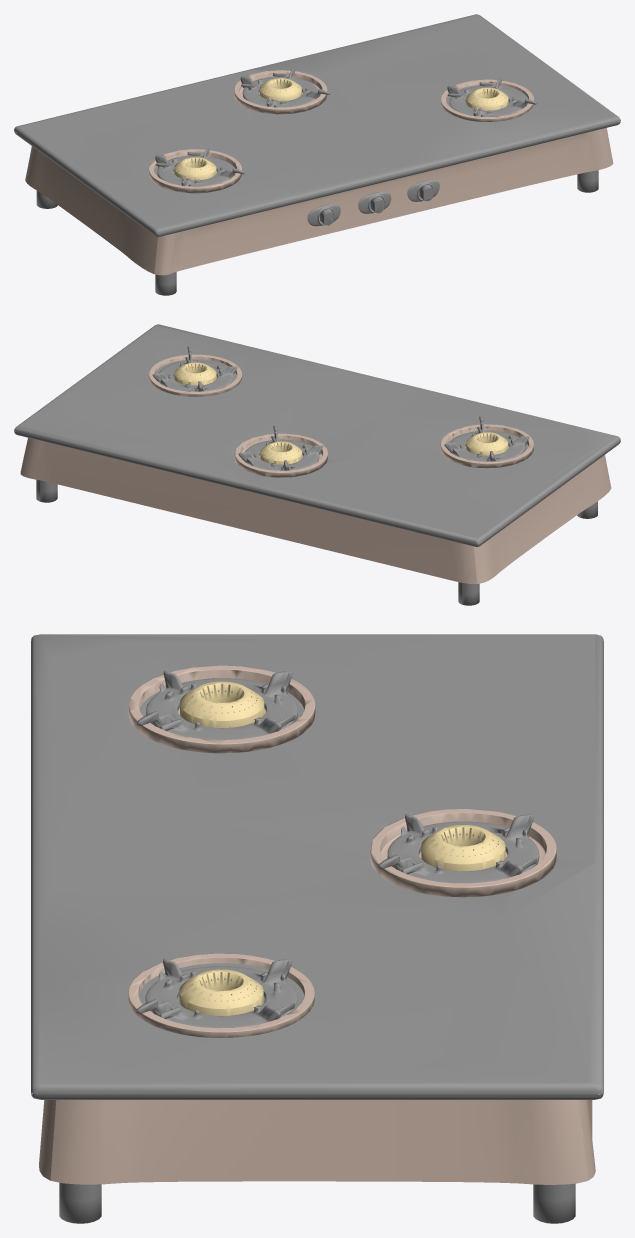
Rendered from cooktop.glb.
The picture shows the model from 3 angles, top to bottom: view 1: azimuth 30°, elevation 25°; view 2: azimuth 150°, elevation 25°; view 3: azimuth 270°, elevation 25°; orthographic projection. The views are drawn at different scales.
Parts seen in each view (by area): view 1: Box001, Box002, Cylinder10, Cylinder13, Cylinder04, Cylinder14, Cylinder11, Cylinder08, Cylinder09, Cylinder12, Cylinder15, Cylinder01 (+3 smaller); view 2: Box001, Box002, Cylinder14, Cylinder11, Cylinder13, Cylinder10, Cylinder04, Cylinder08, Cylinder15, Cylinder12, Cylinder09, Cylinder03 (+1 smaller); view 3: Box001, Box002, Cylinder14, Cylinder11, Cylinder13, Cylinder10, Cylinder04, Cylinder08, Cylinder15, Cylinder09, Cylinder12, Cylinder02 (+1 smaller).
Part boxes in pixels (<box>): Box001: <box>14,14,620,236</box>; Box002: <box>25,128,613,275</box>; Cylinder10: <box>155,148,244,186</box>; Cylinder13: <box>240,68,330,107</box>; Cylinder04: <box>447,78,536,116</box>; Cylinder14: <box>234,70,327,114</box>; Cylinder11: <box>148,149,241,193</box>; Cylinder08: <box>441,79,533,121</box>; Cylinder09: <box>174,157,216,180</box>; Cylinder12: <box>259,78,301,101</box>; Cylinder15: <box>466,87,508,110</box>; Cylinder01: <box>155,272,176,295</box>; Box001: <box>14,324,620,546</box>; Box002: <box>20,438,611,583</box>; Cylinder14: <box>234,433,327,477</box>; Cylinder11: <box>440,424,533,468</box>; Cylinder13: <box>238,425,323,470</box>; Cylinder10: <box>444,416,529,461</box>; Cylinder04: <box>152,346,237,391</box>; Cylinder08: <box>149,354,241,396</box>; Cylinder15: <box>174,362,216,385</box>; Cylinder12: <box>260,441,302,464</box>; Cylinder09: <box>466,432,508,455</box>; Cylinder03: <box>458,582,479,605</box>; Box001: <box>31,634,603,1099</box>; Box002: <box>39,1100,595,1184</box>; Cylinder14: <box>370,809,556,897</box>; Cylinder11: <box>128,665,315,753</box>; Cylinder13: <box>378,814,539,883</box>; Cylinder10: <box>137,670,297,739</box>; Cylinder04: <box>136,958,297,1027</box>; Cylinder08: <box>128,953,314,1037</box>; Cylinder15: <box>179,969,263,1015</box>; Cylinder09: <box>180,681,264,727</box>; Cylinder12: <box>421,825,505,871</box>; Cylinder02: <box>59,1182,101,1223</box>.
Bounding box in the file's own units: 0.7 × 0.126 × 0.3727.
